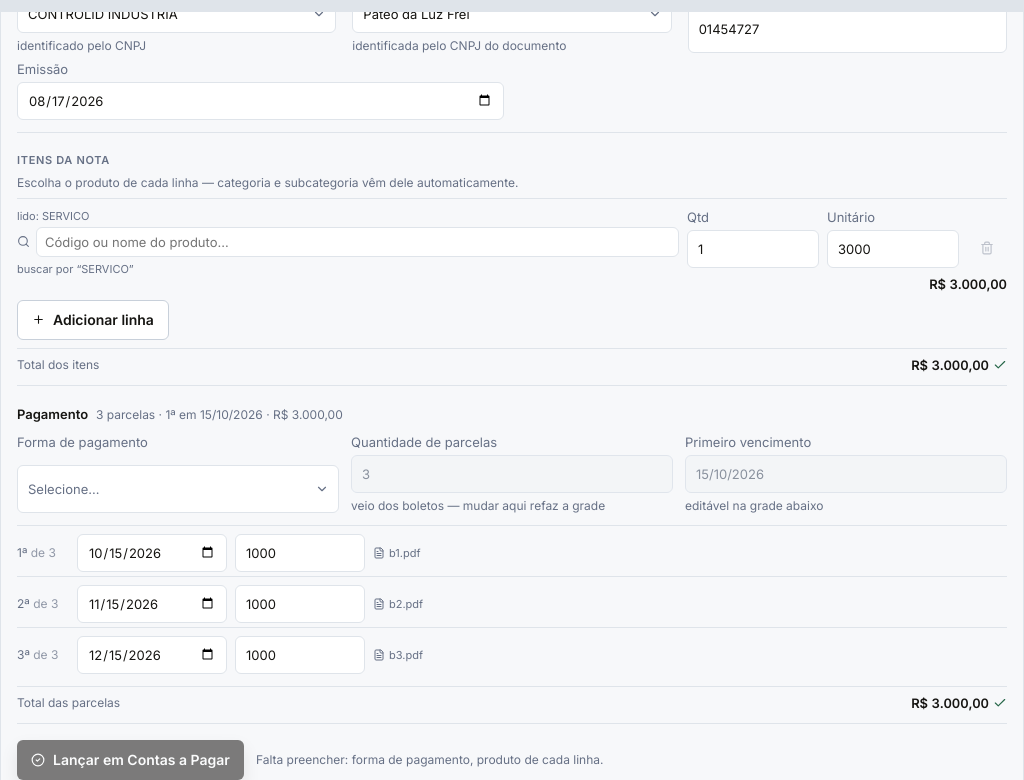
Test: Conferência — título parcelado › trava o lançamento se a soma das parcelas não fecha com a compra
This screenshot has width=1024, height=780.
(page scrolled)
Type "suporte" into the field named "Buscar produto" at (358, 242), box top-left (36, 227), bottom-right (679, 257)
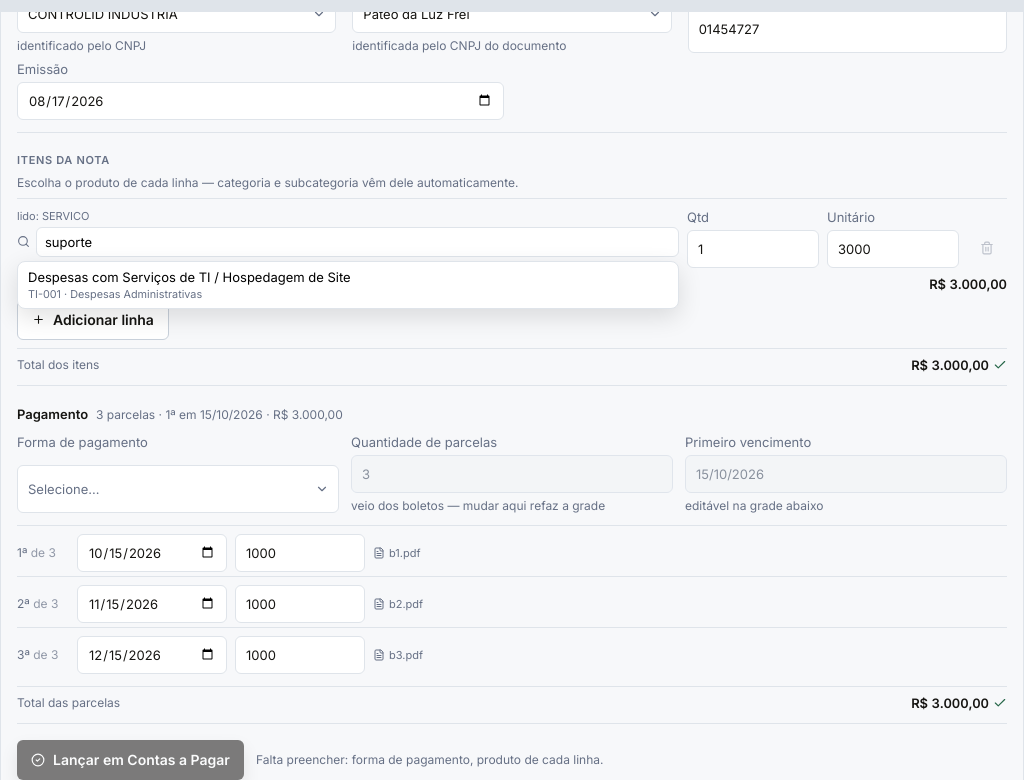
Click the button "Despesas com Serviço" at (348, 285), box top-left (18, 262), bottom-right (678, 308)
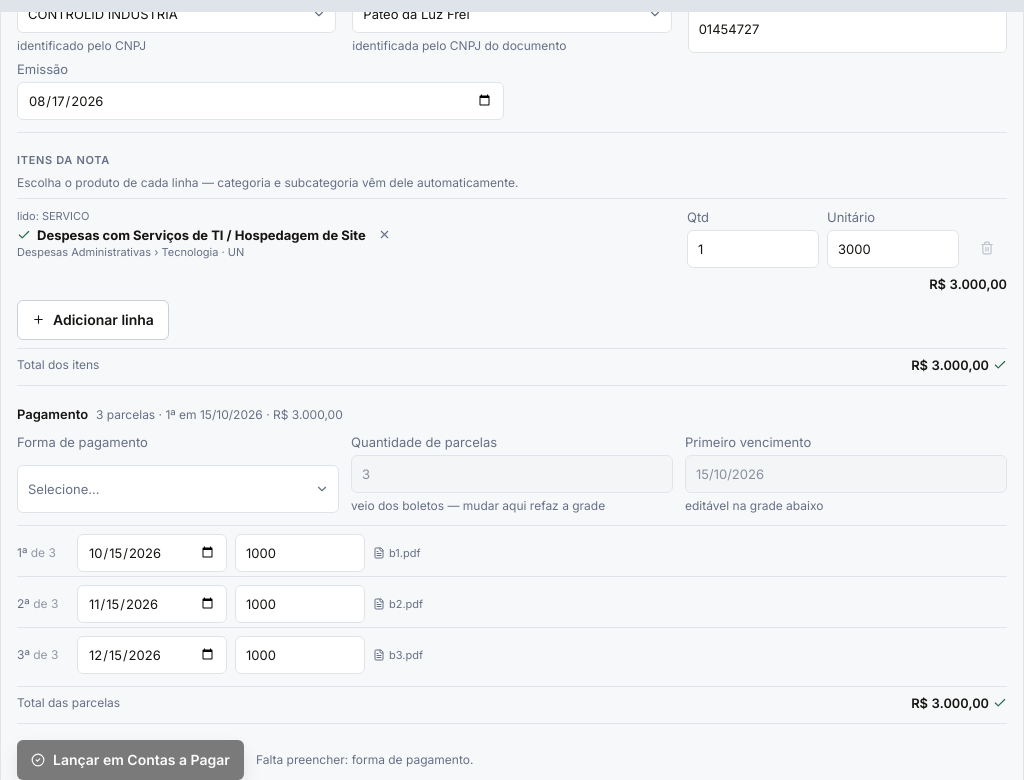
Select "BOLETO" in the dropdown labelled "Forma de pagamento" at (178, 489), box top-left (17, 465), bottom-right (339, 513)
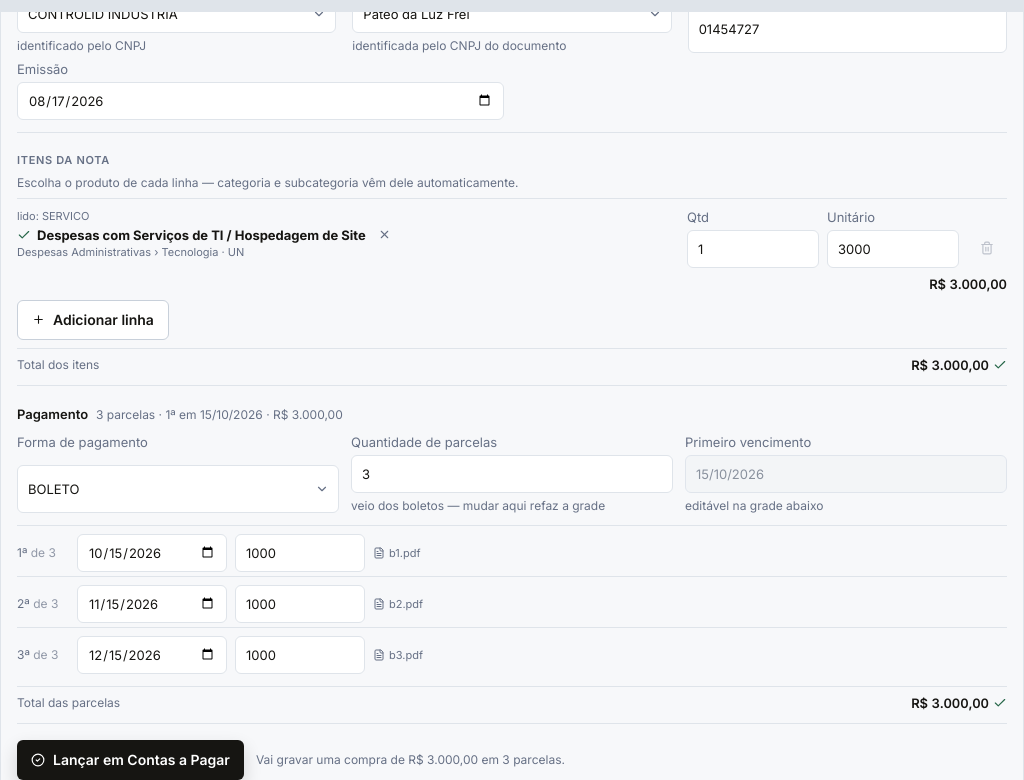
Replace the text in the number field named "Valor da parcela 2" with "500" at (300, 604), box top-left (235, 585), bottom-right (365, 623)
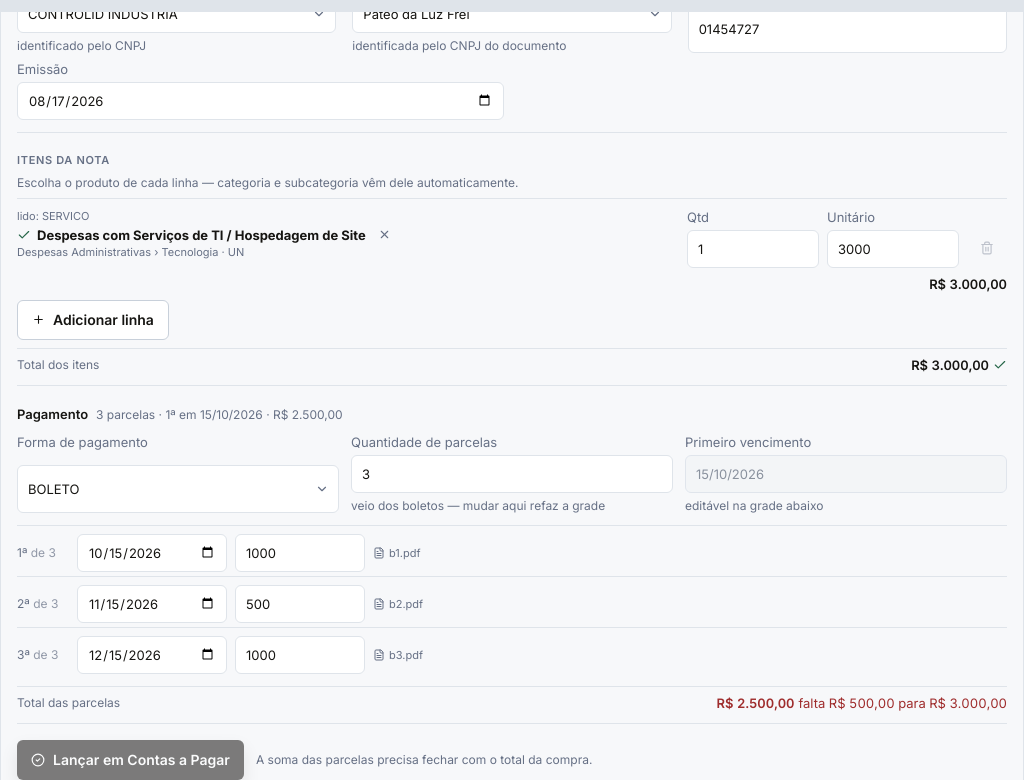
Check: the text "falta R$ 500,00 para R$ 3.000,00" is shown, box top-left (798, 695), bottom-right (1007, 711)
Check: the button "Lançar em Contas a Pagar" is disabled, box top-left (17, 740), bottom-right (244, 779)
